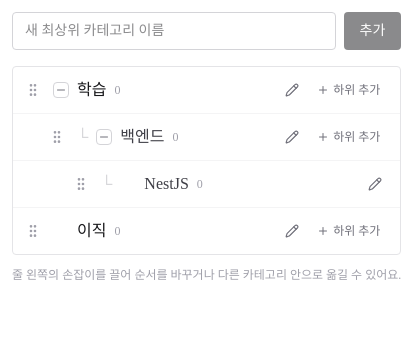
Scenario: CategoryManager: 폴더 접기/펼치기 (+ / −) › 접힌 폴더의 '하위 추가'를 누르면 먼저 펼쳐서 기존 하위와 입력 줄이 함께 보인다
Expected: the text "NestJS" is shown, [144,172,189,196]
Click the button named "학습 접기" at (61, 90), box [53,82,69,98]
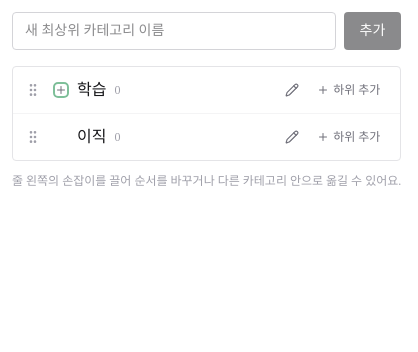
Click the button with aria-label "학습의 하위 카테고리 추가" at (349, 90), box [309,78,388,102]
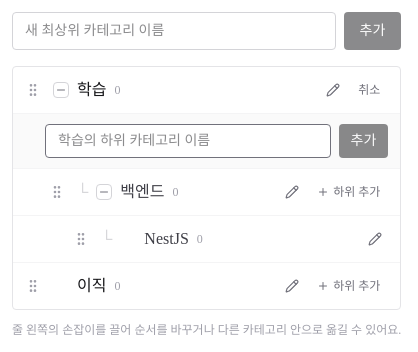
Expected: the field labelled "하위 카테고리 이름" is shown, [45,124,330,158]
Expected: the text "백엔드" is shown, [120,180,164,204]
Expected: the button named "학습 접기" is shown, [53,82,69,98]
